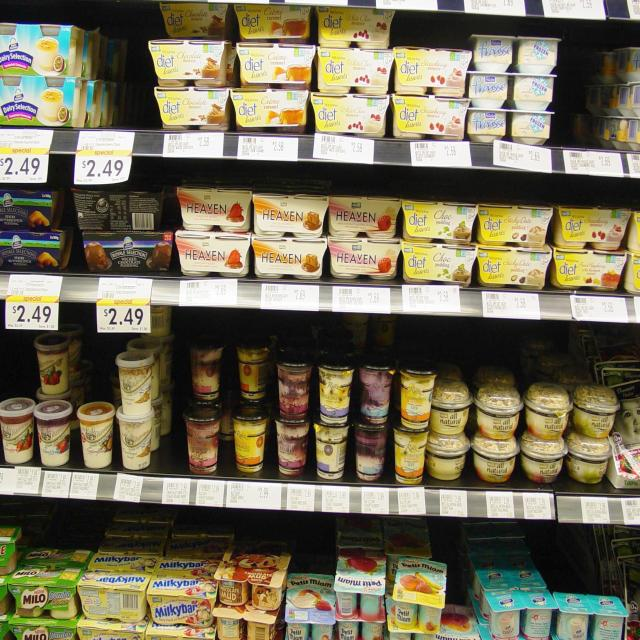empty_space: (93, 26, 147, 125), (561, 41, 600, 144), (83, 340, 113, 396), (3, 334, 34, 388)
